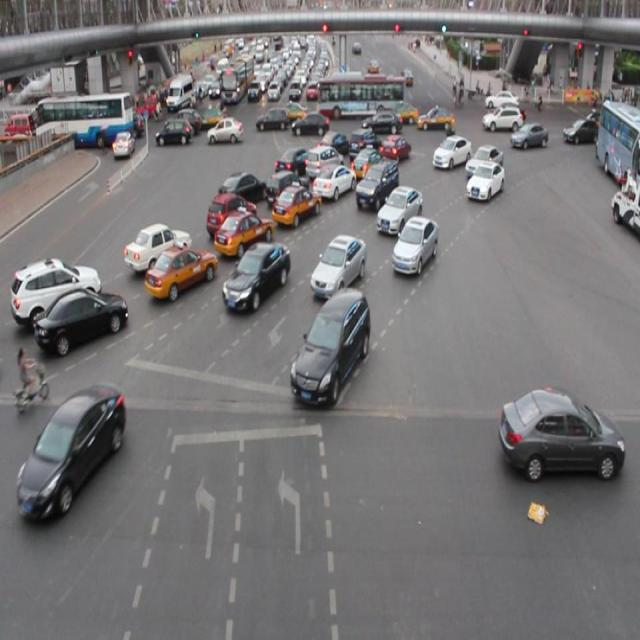car: (20, 386, 125, 520), (500, 386, 620, 476), (289, 288, 369, 404), (11, 256, 102, 322), (36, 288, 128, 352), (223, 240, 289, 312), (146, 242, 216, 300), (124, 223, 191, 275), (310, 235, 364, 295), (213, 207, 273, 256), (390, 216, 437, 276), (377, 185, 422, 237), (355, 162, 400, 212), (206, 193, 258, 235), (272, 183, 321, 227), (311, 162, 355, 202), (264, 170, 308, 208), (466, 161, 503, 200), (350, 145, 390, 181), (218, 173, 265, 202), (432, 135, 469, 170), (465, 143, 502, 178), (275, 147, 311, 180), (509, 121, 546, 153), (347, 127, 381, 160), (316, 129, 349, 160), (378, 135, 410, 165)
truck: (304, 145, 344, 181)
